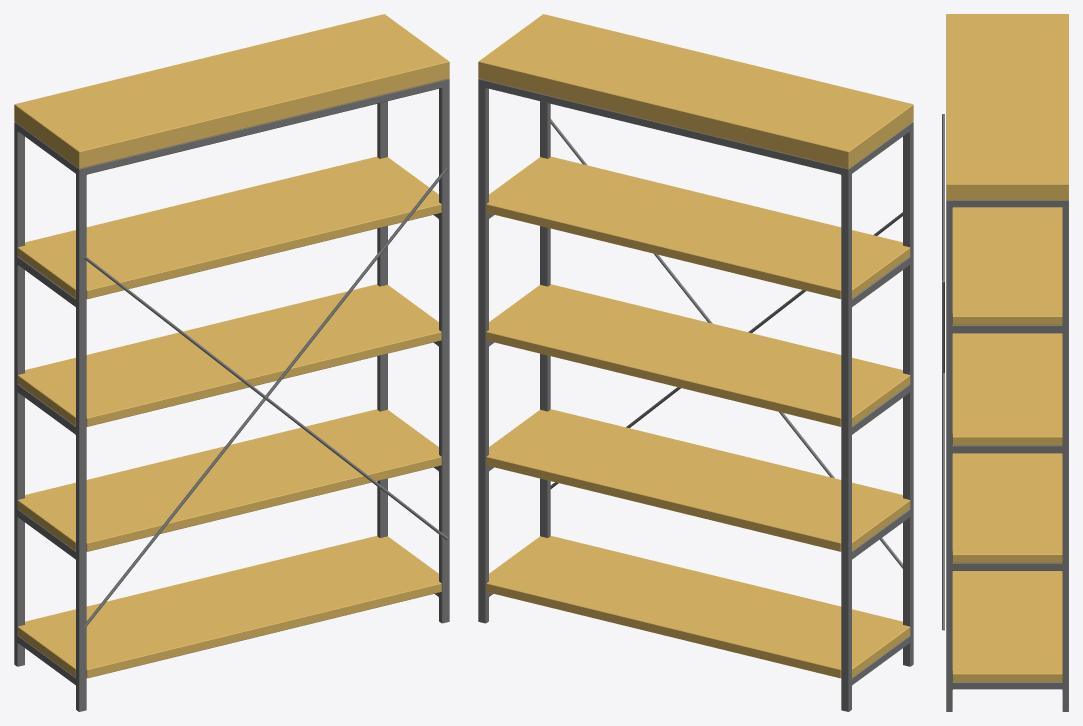
The model's file is Pot_Shelf.fbx.
3 views of the same model, side by side, from view 1: azimuth 30°, elevation 25°; view 2: azimuth 150°, elevation 25°; view 3: azimuth 270°, elevation 25° (orthographic). The views are drawn at different scales.
Parts seen in each view (by area): view 1: Pot Shelf; view 2: Pot Shelf; view 3: Pot Shelf.
Part boxes in pixels (x1,y1,x2,y2): Pot Shelf: (14,14,449,711); Pot Shelf: (478,14,913,711); Pot Shelf: (942,14,1068,711).
Bounding box in the file's own units: 1.77 × 0.556 × 2.55.
